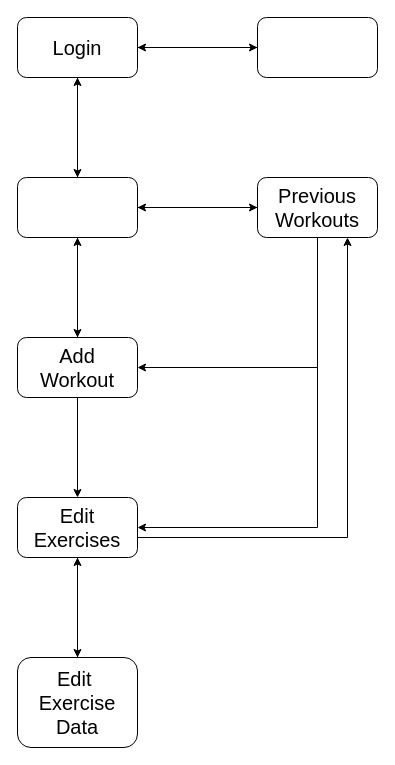
The diagram is 395 pixels wide and 765 high, and some of its shapes have lost their labels. Each missing label, with the box of its shape:
Homepage: (16, 176, 138, 238)
Sign up: (256, 16, 378, 78)
